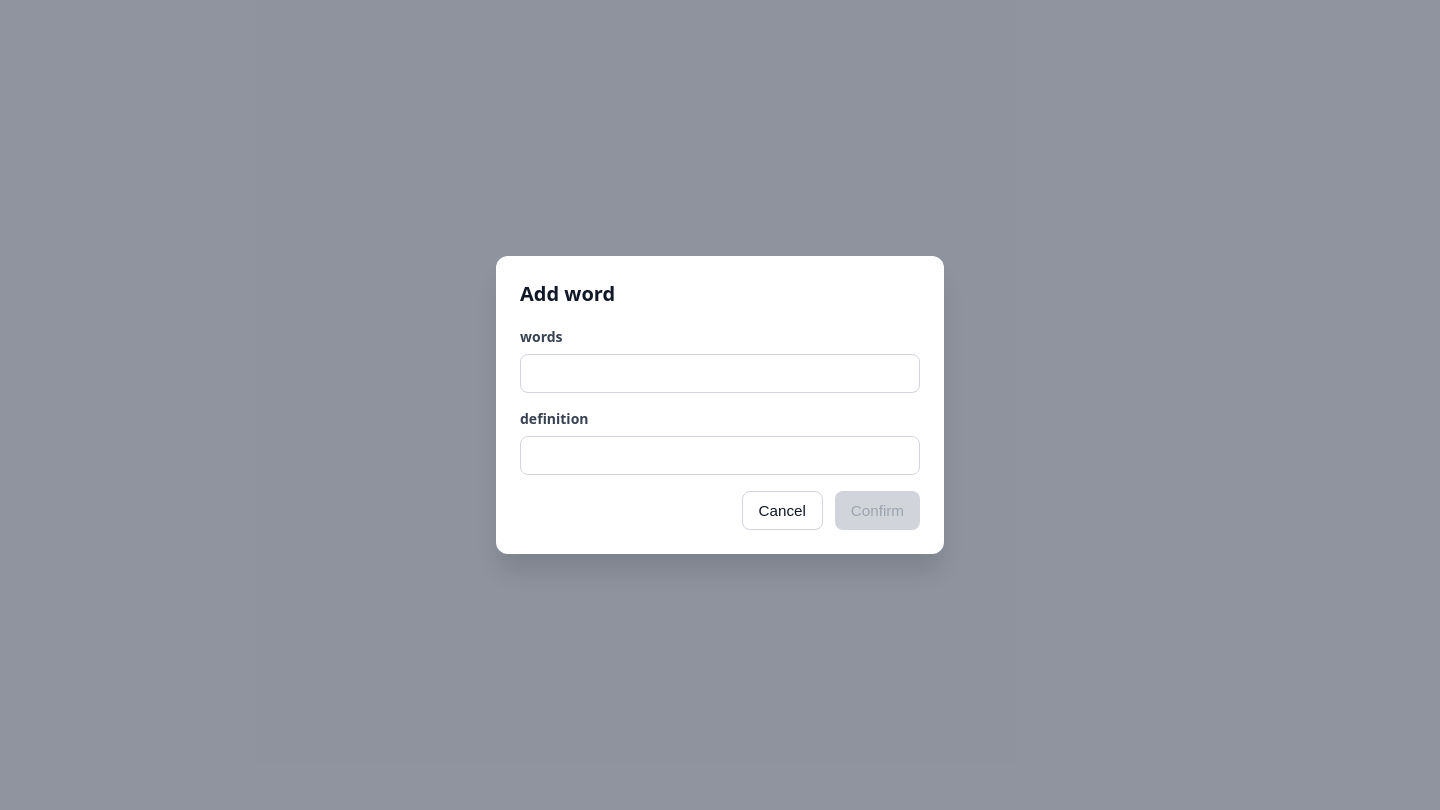
Test: AddWordModal › shows a warning and disables confirm for non-Chinese words
Type "hello" into the field labelled "words".
click(720, 374); type("hello")  # box [520, 354, 920, 393]
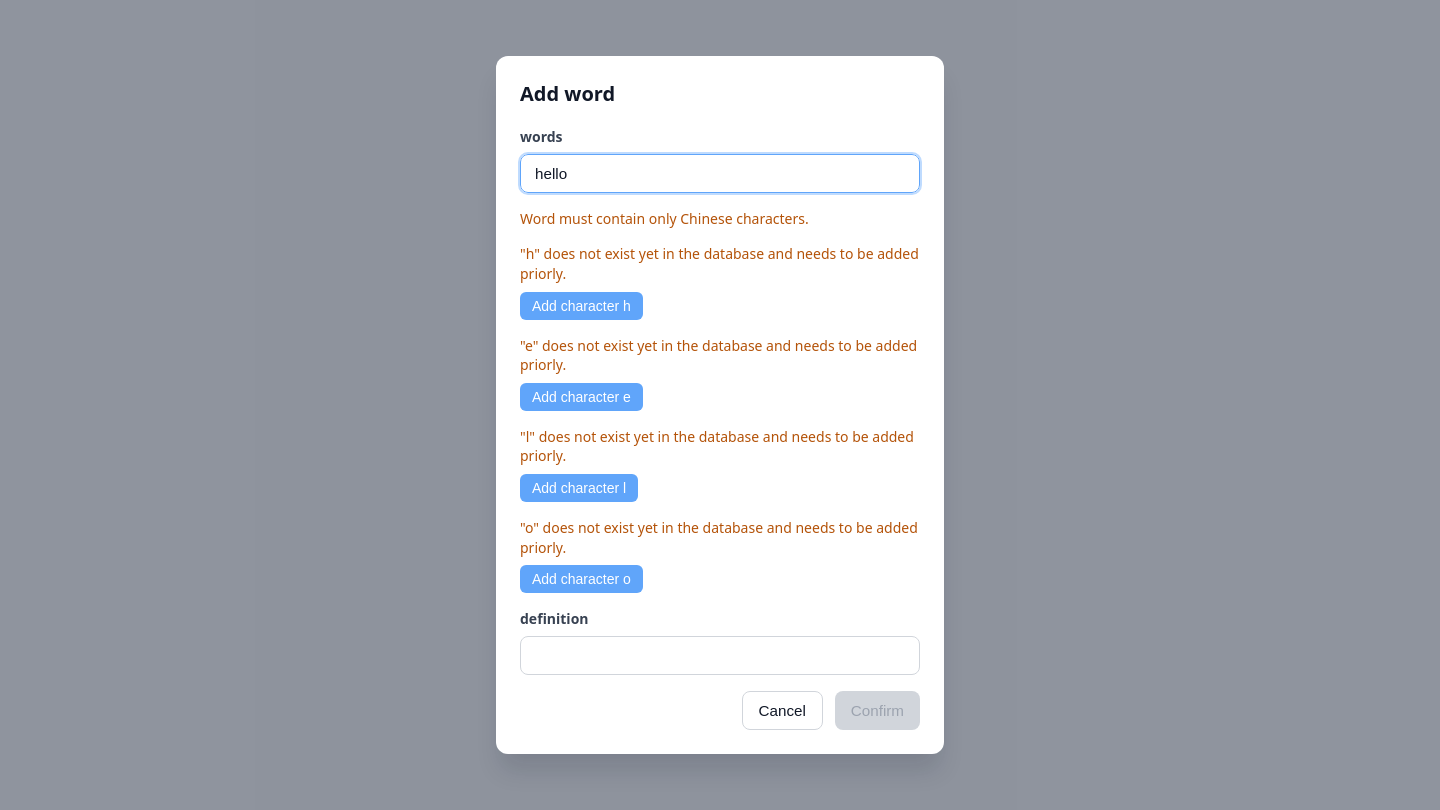
Check: the button "Confirm" is disabled, box [835, 691, 920, 730]
Check: the text "Word must contain only Chinese characters." is shown, box [520, 209, 809, 228]
